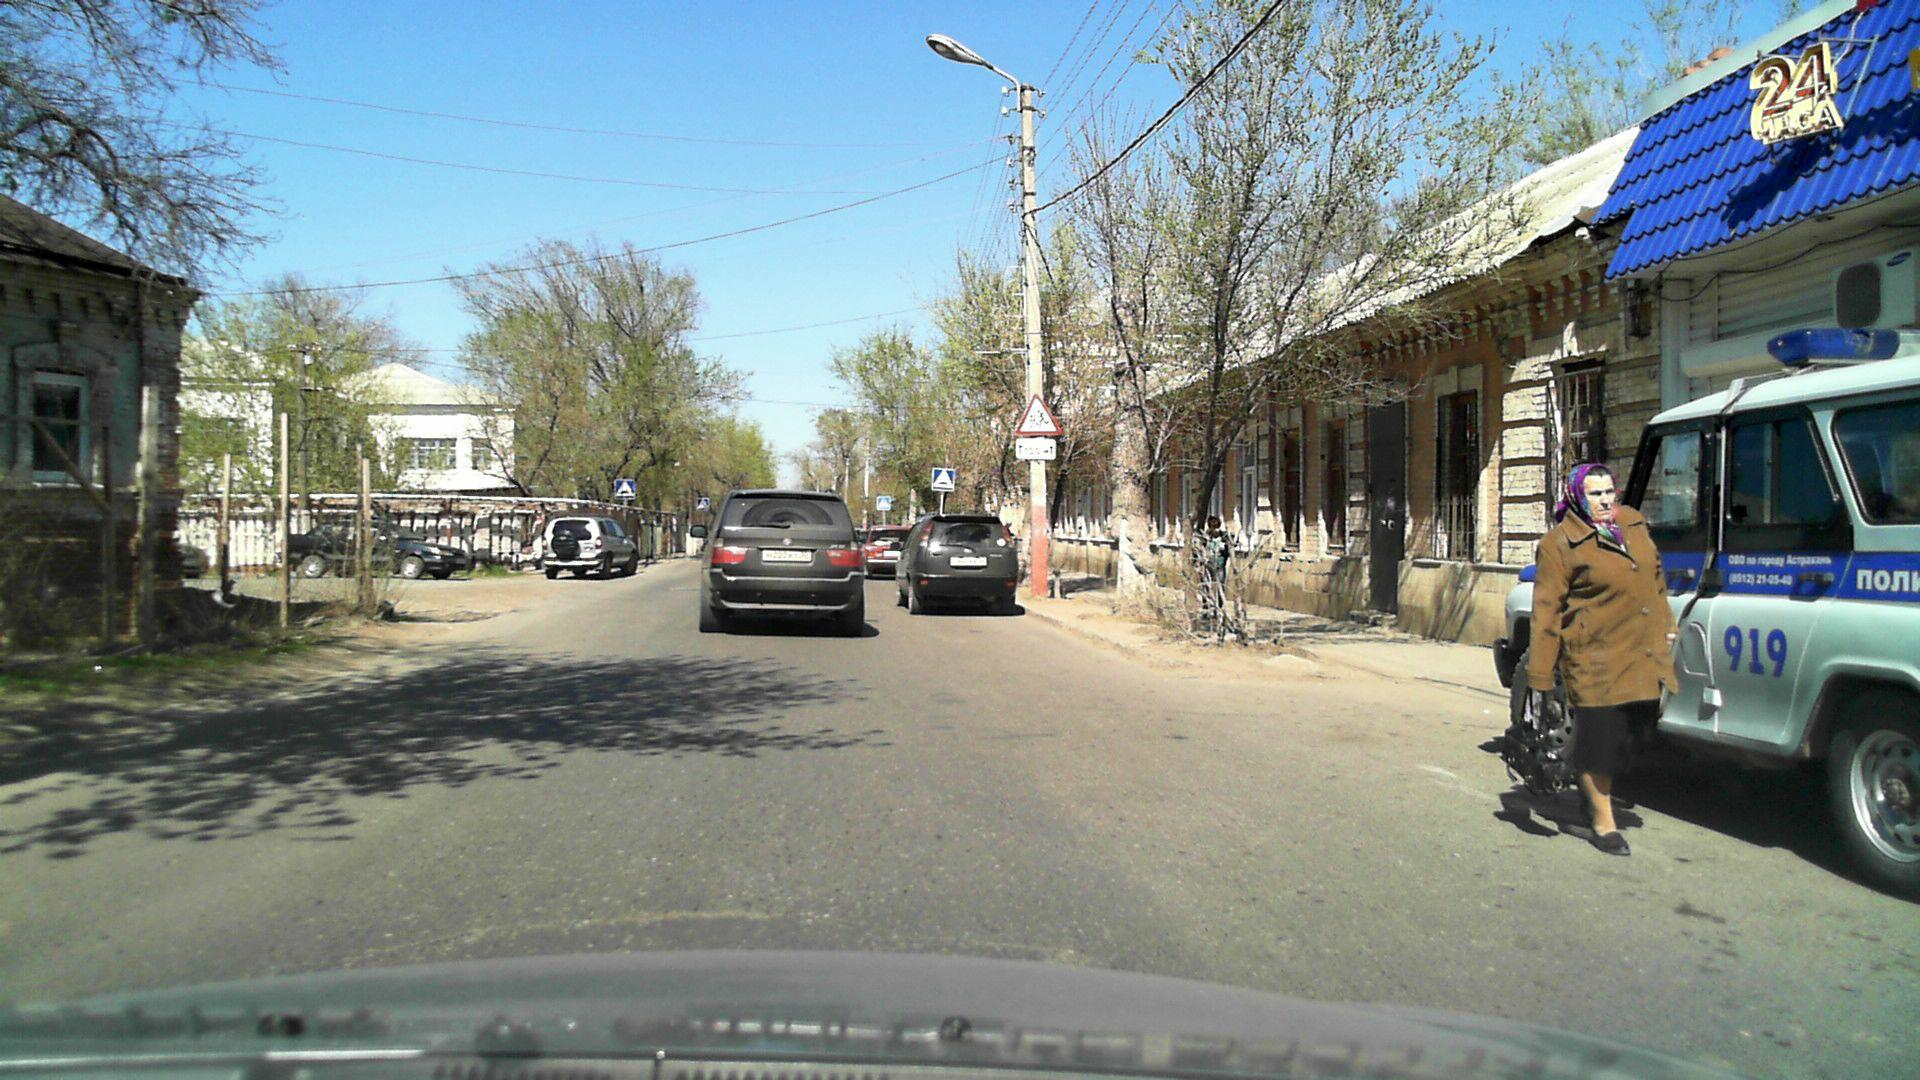1_23: (1015, 393, 1060, 436)
5_19_1: (876, 496, 893, 513)
5_19_2: (695, 496, 711, 512)
5_20: (930, 467, 959, 492), (615, 476, 637, 500)
8_2_1: (1013, 436, 1060, 459)
